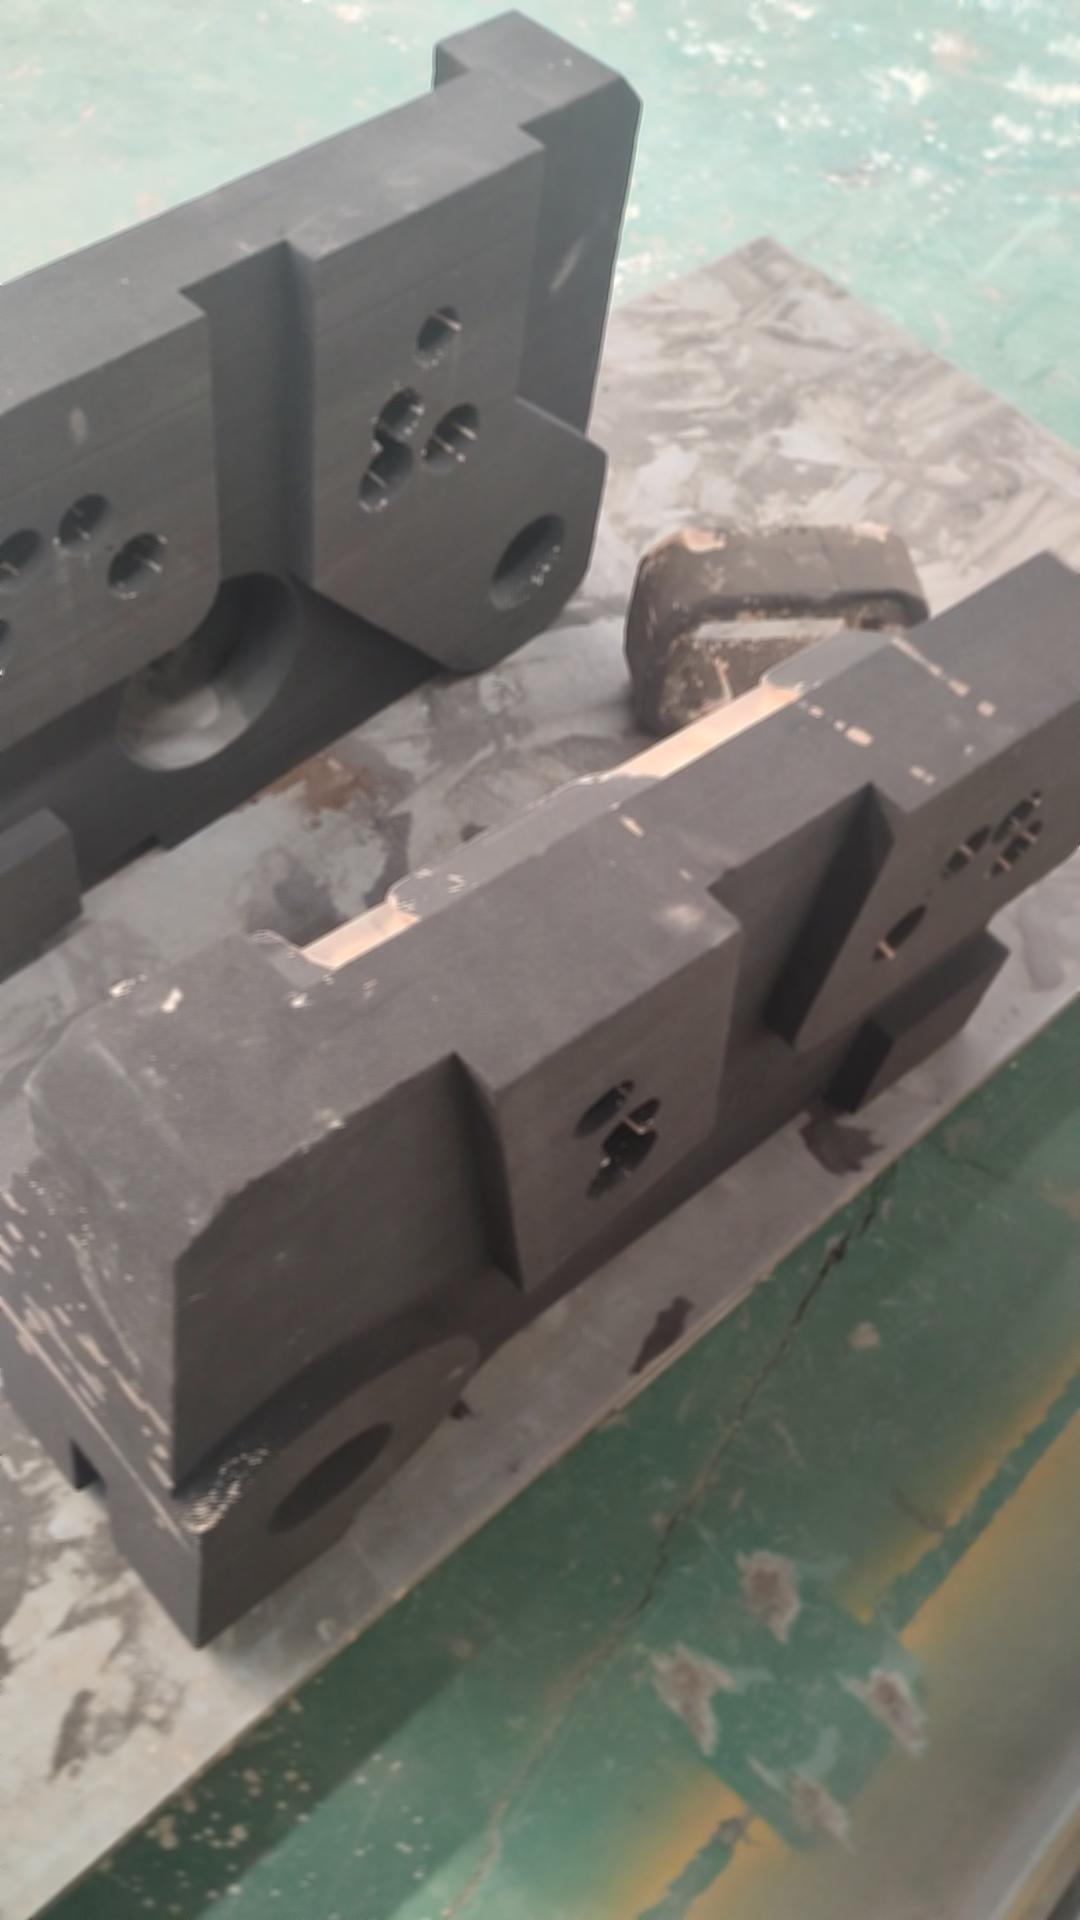pouring hole: (266, 1420, 393, 1542), (489, 512, 566, 613)
